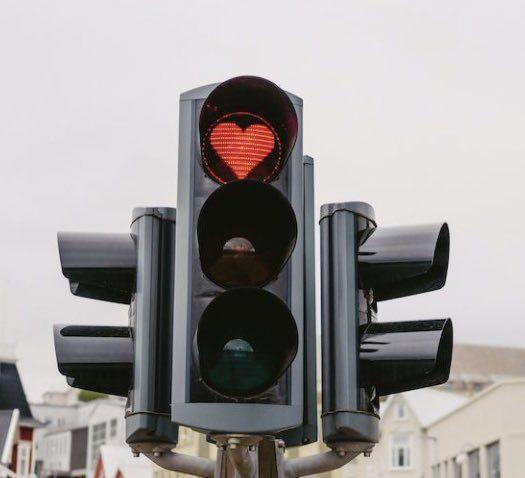red: (164, 69, 324, 445)
